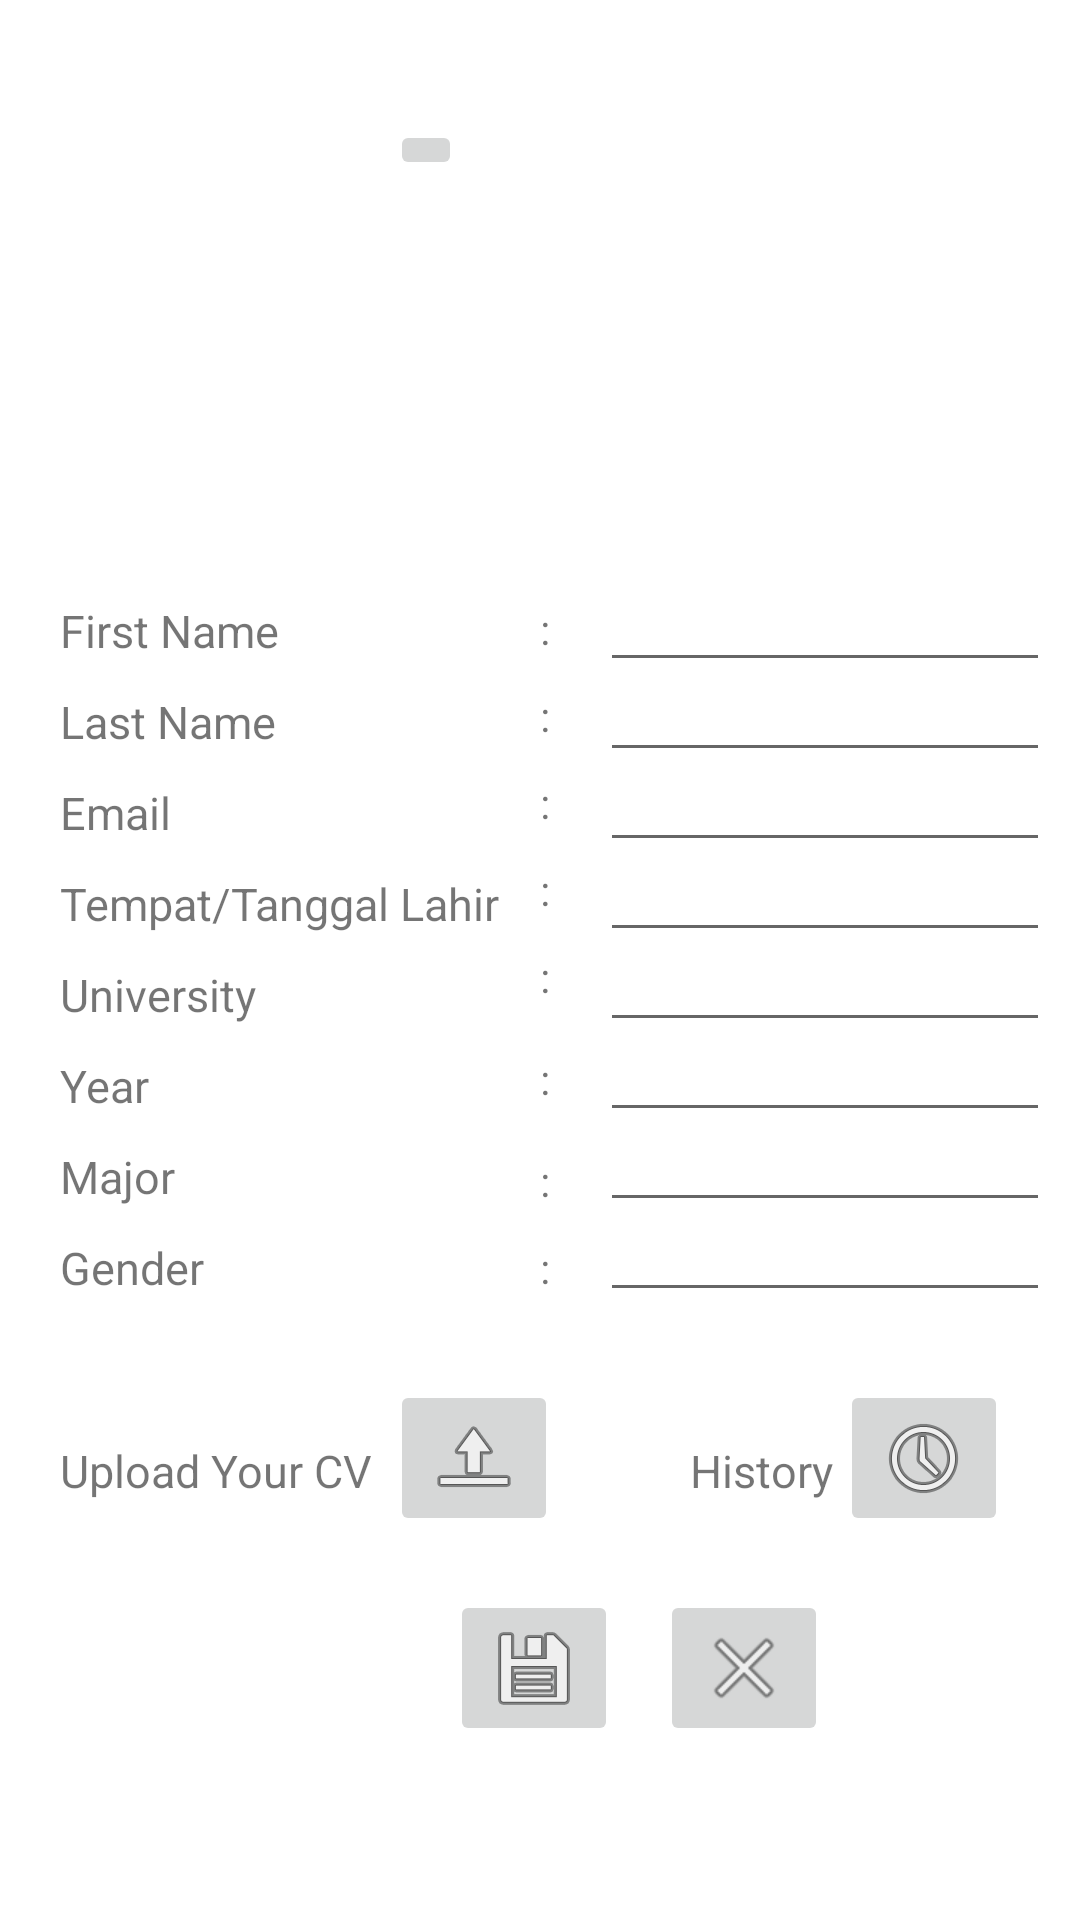

Point at icon controls on the screen. Image size 1080 × 1920, points as [x,y].
close clear cancel: [744,1668]
save: [534,1668]
